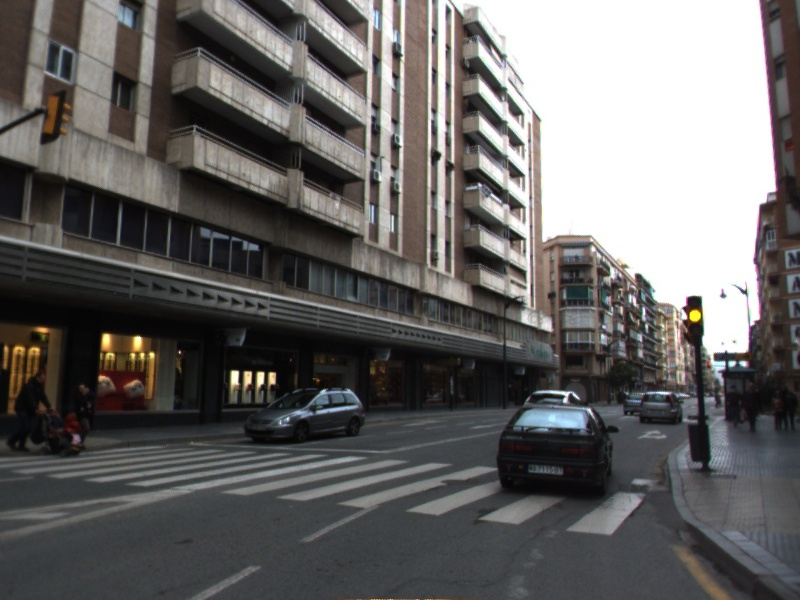STRAIGHT_RIGHT: (635, 427, 669, 442)
